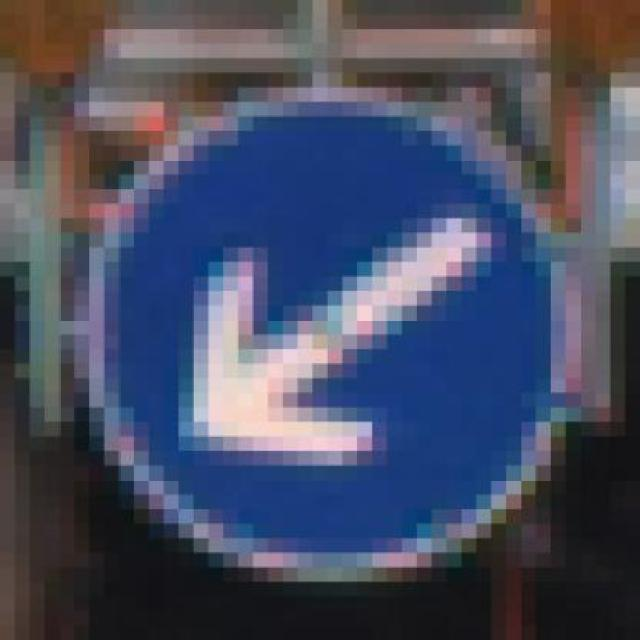Keep-Left: (59, 72, 596, 597)
